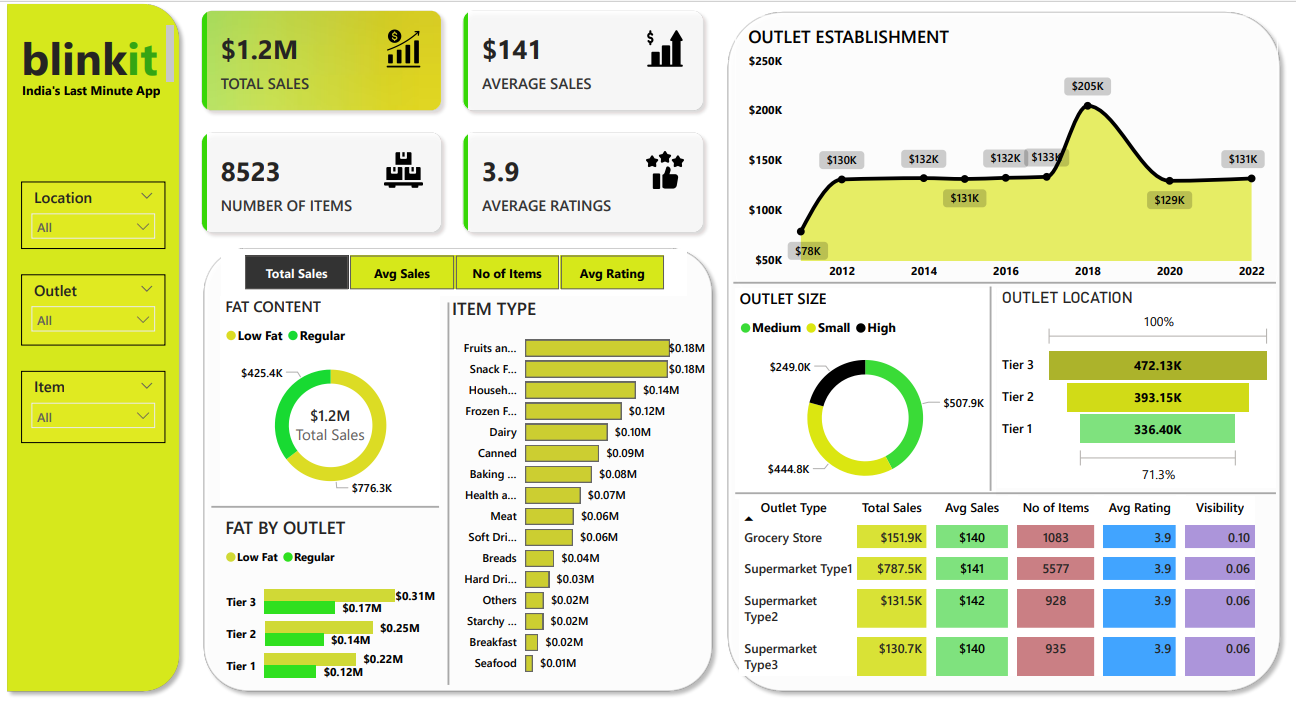

This screenshot's page, from the dashboard's own definition file:
{"tool":"powerbi","page":{"name":"Page 1","canvas":[1400,800],"ordinal":0},"visuals":[{"type":"shape","box":[15,25.5,199.6,750.4],"z":0},{"type":"textbox","box":[24,52.5,181.6,72],"z":1000},{"type":"textbox","box":[28.5,112.6,168.1,36],"z":2000},{"type":"cardVisual","fields":{"Data":["BlinkIT Grocery Data.Total Sales","BlinkIT Grocery Data.Avg Sales","BlinkIT Grocery Data.No of Items","BlinkIT Grocery Data.Avg Rating"]},"box":[214.5,25.5,569.7,270.8],"z":3000},{"type":"shape","box":[223.9,285.5,560.3,490.6],"z":4000},{"type":"donutChart","title":"FAT CONTENT","fields":{"Y":["BlinkIT Grocery Data.Total Sales","BlinkIT Grocery Data.Total Sales"],"Category":["BlinkIT Grocery Data.Item Fat Content"]},"box":[250.7,345.8,234.6,225.2],"z":5000},{"type":"slicer","fields":{"Values":["Metrices.Metrices"]},"box":[250.7,296.2,497.3,49.6],"z":6000},{"type":"cardVisual","fields":{"Data":["BlinkIT Grocery Data.Total Sales"]},"box":[312.3,443.7,112.6,75.1],"z":7000},{"type":"clusteredBarChart","title":"FAT BY OUTLET","fields":{"Y":["BlinkIT Grocery Data.Total Sales"],"Category":["BlinkIT Grocery Data.Outlet Location Type"],"Series":["BlinkIT Grocery Data.Item Fat Content"]},"box":[250.7,580.4,234.6,193],"z":8000},{"type":"shape","box":[241.3,564.3,242.6,13.4],"z":9000},{"type":"shape","box":[483.9,352.5,20.1,408.8],"z":10000},{"type":"barChart","title":"ITEM TYPE","fields":{"Y":["BlinkIT Grocery Data.Total Sales"],"Category":["BlinkIT Grocery Data.Item Type"]},"box":[493.3,345.8,280.2,415.6],"z":11000},{"type":"shape","box":[784.2,34.9,605.9,741.3],"z":12000},{"type":"lineChart","title":"OUTLET ESTABLISHMENT","fields":{"Y":["BlinkIT Grocery Data.Total Sales"],"Category":["BlinkIT Grocery Data.Outlet Establishment Year"]},"box":[800.3,46.9,579.1,298.9],"z":13000},{"type":"shape","box":[797.6,325.7,579.1,12.1],"z":14000},{"type":"donutChart","title":"OUTLET SIZE","fields":{"Y":["BlinkIT Grocery Data.Total Sales"],"Category":["BlinkIT Grocery Data.Outlet Size"]},"box":[800.3,337.8,277.5,225.2],"z":15000},{"type":"shape","box":[1067,336.5,10.7,217.2],"z":16000},{"type":"funnel","title":"OUTLET LOCATION","fields":{"Y":["Sum(BlinkIT Grocery Data.Sales)"],"Category":["BlinkIT Grocery Data.Outlet Location Type"]},"box":[1080.4,337.8,296.2,213.1],"z":17000},{"type":"pivotTable","fields":{"Rows":["BlinkIT Grocery Data.Outlet Type"],"Values":["BlinkIT Grocery Data.Total Sales","BlinkIT Grocery Data.Avg Sales","BlinkIT Grocery Data.No of Items","BlinkIT Grocery Data.Avg Rating","Avg(BlinkIT Grocery Data.Item Visibility)"]},"box":[800.3,553.6,564.3,210.5],"z":18000},{"type":"shape","box":[800.3,549.6,576.4,13.4],"z":19000},{"type":"slicer","fields":{"Values":["BlinkIT Grocery Data.Outlet Location Type"]},"box":[37.5,223.9,154.2,72.4],"z":20000},{"type":"slicer","fields":{"Values":["BlinkIT Grocery Data.Outlet Type"]},"box":[37.5,323.1,154.2,76.4],"z":21000},{"type":"slicer","fields":{"Values":["BlinkIT Grocery Data.Item Type"]},"box":[37.5,426.3,154.2,76.4],"z":22000}]}

Visuals, with their boxes on the page's 1400x800 design canvas (x1, y1, x2, y2). These are canvas units, not pixel positions in the 1296x708 screenshot, which may show the page scaled, cropped or inside an application window:
shape: left=15, top=26, right=215, bottom=776
textbox: left=24, top=52, right=206, bottom=124
textbox: left=28, top=113, right=197, bottom=149
cardVisual - BlinkIT Grocery Data.Total Sales x BlinkIT Grocery Data.Avg Sales: left=214, top=26, right=784, bottom=296
shape: left=224, top=286, right=784, bottom=776
"FAT CONTENT" donutChart: left=251, top=346, right=485, bottom=571
slicer - Metrices.Metrices: left=251, top=296, right=748, bottom=346
cardVisual - BlinkIT Grocery Data.Total Sales: left=312, top=444, right=425, bottom=519
"FAT BY OUTLET" clusteredBarChart: left=251, top=580, right=485, bottom=773
shape: left=241, top=564, right=484, bottom=578
shape: left=484, top=352, right=504, bottom=761
"ITEM TYPE" barChart: left=493, top=346, right=774, bottom=761
shape: left=784, top=35, right=1390, bottom=776
"OUTLET ESTABLISHMENT" lineChart: left=800, top=47, right=1379, bottom=346
shape: left=798, top=326, right=1377, bottom=338
"OUTLET SIZE" donutChart: left=800, top=338, right=1078, bottom=563
shape: left=1067, top=336, right=1078, bottom=554
"OUTLET LOCATION" funnel: left=1080, top=338, right=1377, bottom=551
pivotTable - BlinkIT Grocery Data.Outlet Type x BlinkIT Grocery Data.Total Sales: left=800, top=554, right=1365, bottom=764
shape: left=800, top=550, right=1377, bottom=563
slicer - BlinkIT Grocery Data.Outlet Location Type: left=38, top=224, right=192, bottom=296
slicer - BlinkIT Grocery Data.Outlet Type: left=38, top=323, right=192, bottom=400
slicer - BlinkIT Grocery Data.Item Type: left=38, top=426, right=192, bottom=503
